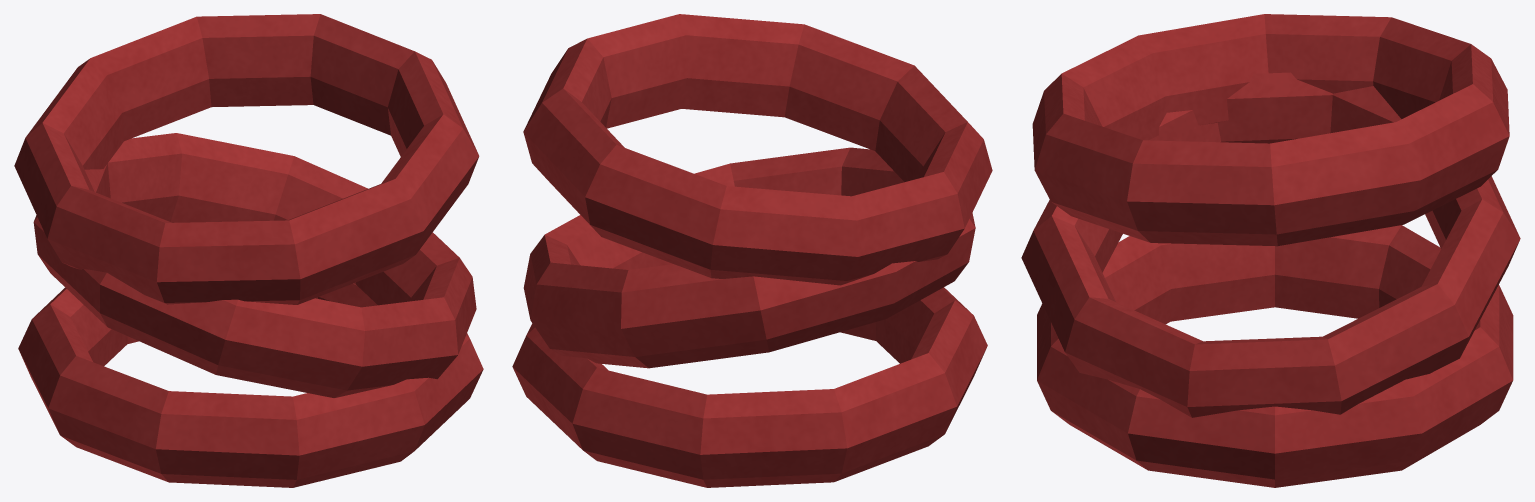
Rendered from Bracelet.fbx.
3 views of the same model, side by side, from view 1: azimuth 30°, elevation 25°; view 2: azimuth 150°, elevation 25°; view 3: azimuth 270°, elevation 25° (orthographic). The views are drawn at different scales.
Parts seen in each view (by area): view 1: Bracelet; view 2: Bracelet; view 3: Bracelet.
Boxes of the visible parts, <box> form: Bracelet: <box>14,14,483,487</box>; Bracelet: <box>512,14,992,487</box>; Bracelet: <box>1021,14,1520,487</box>.
Size of the model in its own units: 15.16 by 11.26 by 14.96.
